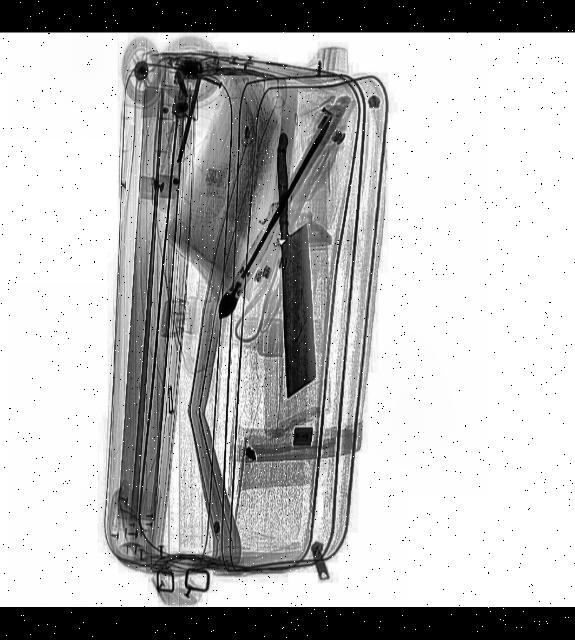Knife: (276, 134, 318, 398)
